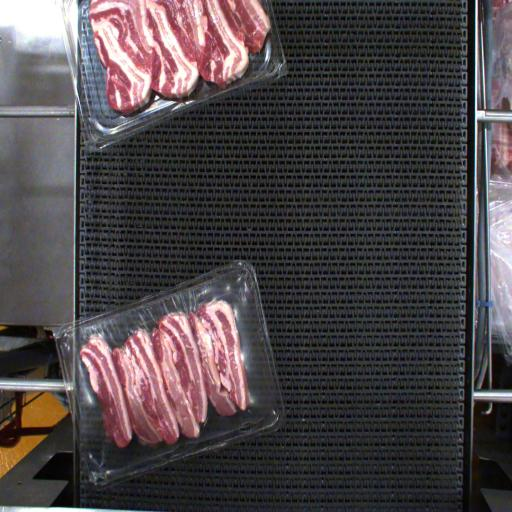unsealed: (49, 266, 268, 436)
